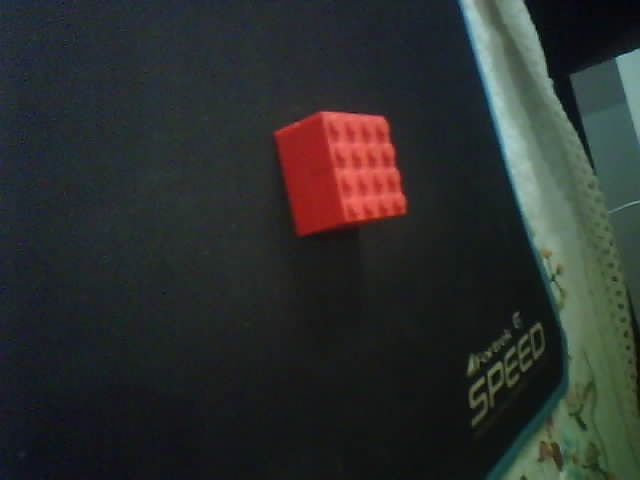lego: (273, 110, 407, 237)
